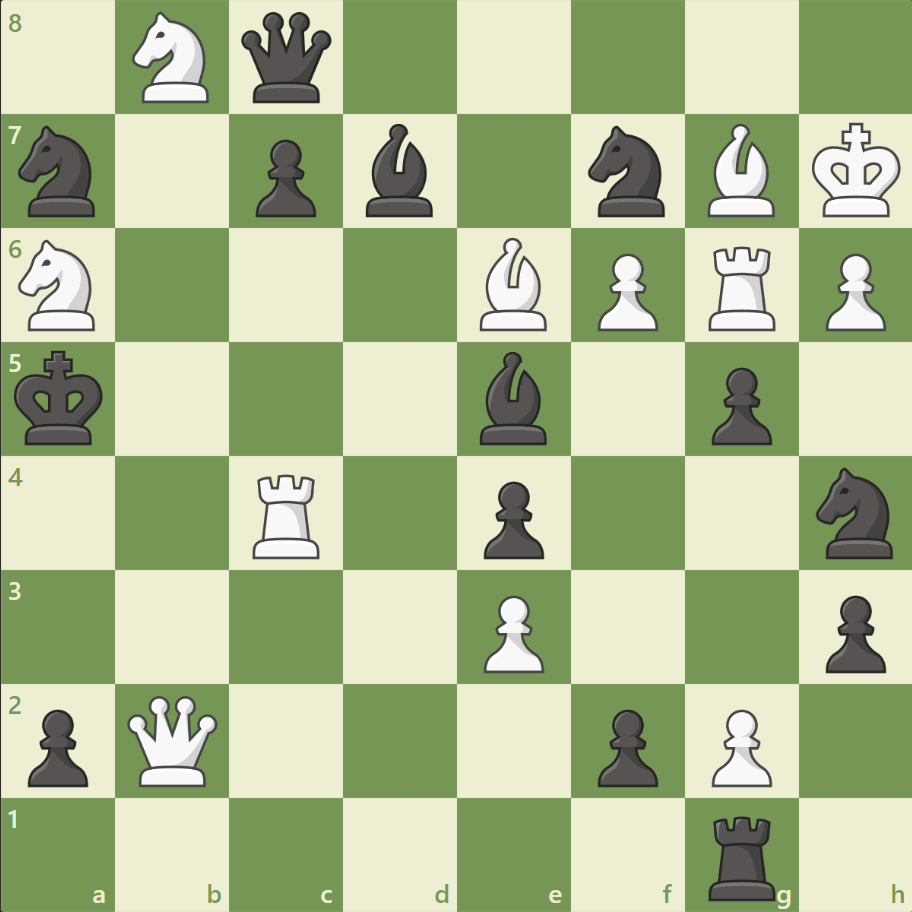B: (471, 233, 555, 336), (698, 120, 782, 222)
K: (806, 117, 906, 225)
N: (124, 7, 222, 110), (11, 234, 108, 337)
P: (474, 586, 549, 677), (701, 700, 776, 791), (588, 246, 662, 337), (815, 246, 889, 337)
Q: (124, 690, 223, 789)
R: (700, 239, 783, 336), (246, 466, 329, 563)
b: (358, 120, 442, 222), (471, 347, 555, 449)
k: (11, 344, 111, 452)
n: (806, 461, 903, 564), (11, 121, 108, 223), (579, 121, 676, 223)
p: (247, 132, 322, 223), (701, 359, 776, 450), (474, 473, 549, 564), (20, 700, 95, 791), (815, 586, 889, 677), (588, 700, 662, 791)
q: (237, 9, 336, 108)
r: (700, 806, 783, 904)
